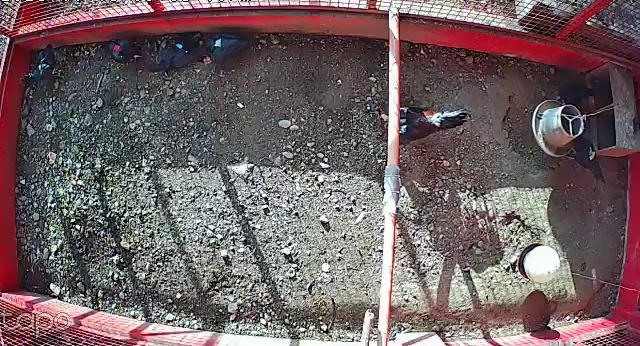Chicken: (558, 132, 611, 189), (20, 42, 74, 88), (150, 33, 202, 76), (200, 30, 248, 70), (103, 34, 146, 65)
Rooster: (377, 99, 473, 152)
Saddle_Color_Blue: (175, 43, 182, 50)
Saddle_Color_Red: (113, 44, 121, 53)
Saddle_Color_White: (215, 38, 221, 49)
Saddle_Color_Yellow: (37, 63, 44, 72)
Saddle_Color_YellowGreen: (585, 147, 597, 162)
